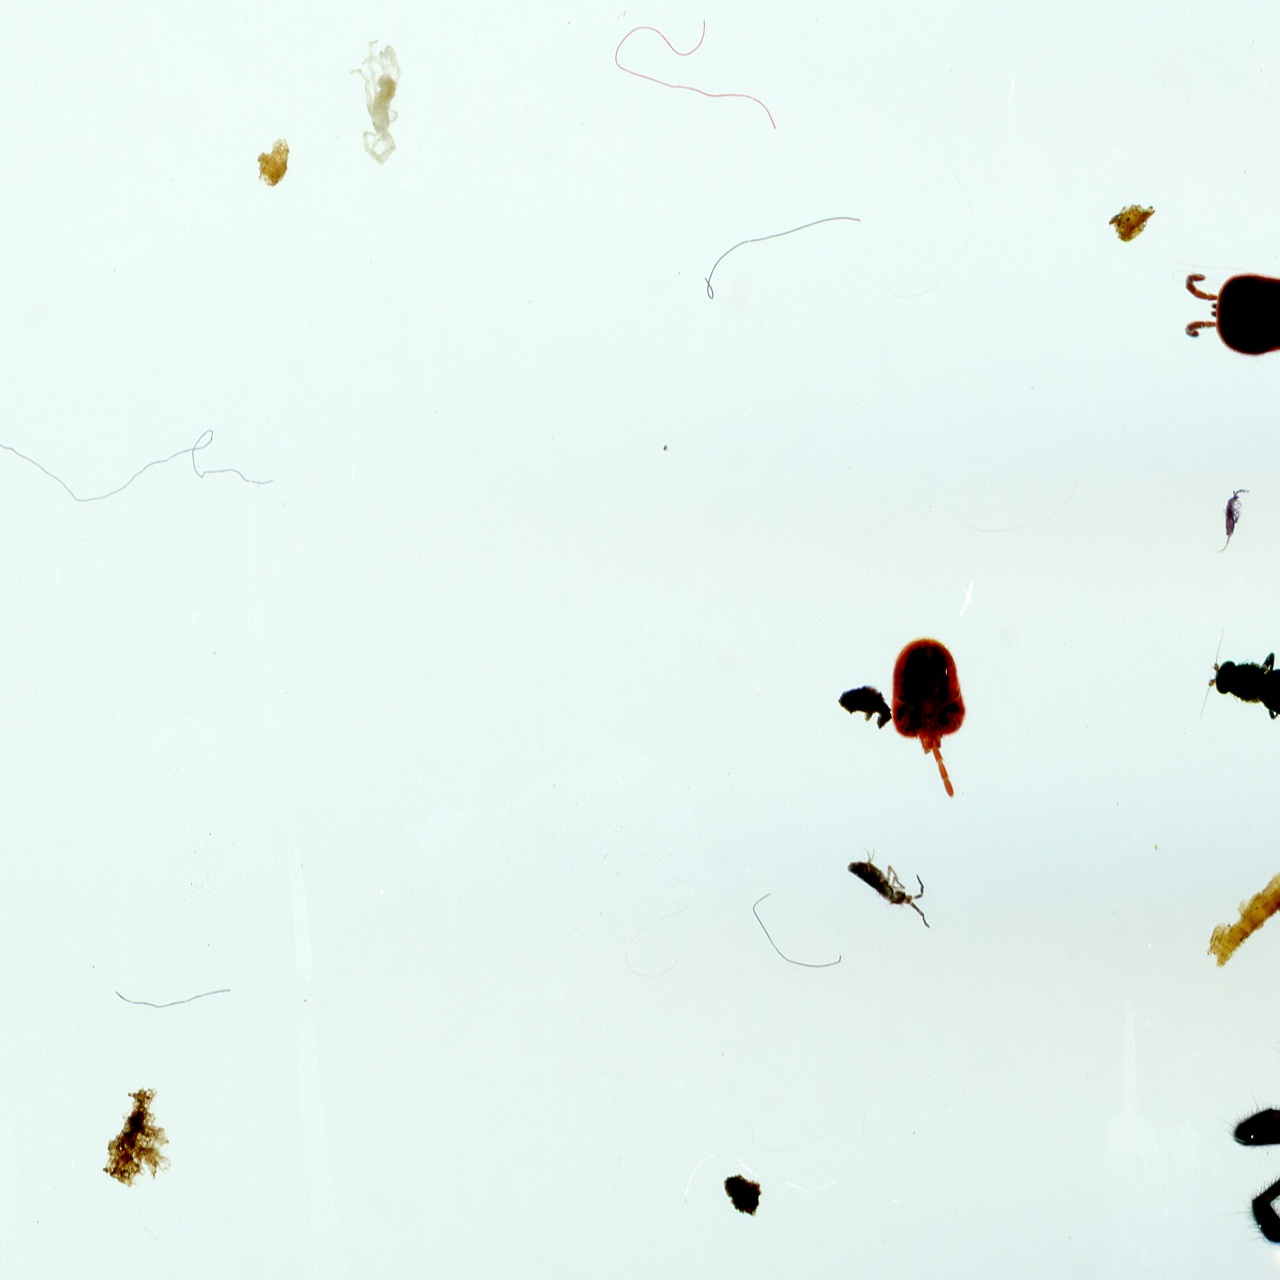arthropod: (1211, 955, 1280, 1280), (881, 629, 974, 806), (825, 828, 962, 939), (348, 23, 416, 176), (1178, 264, 1280, 360), (1191, 626, 1280, 735), (1207, 476, 1259, 561)
